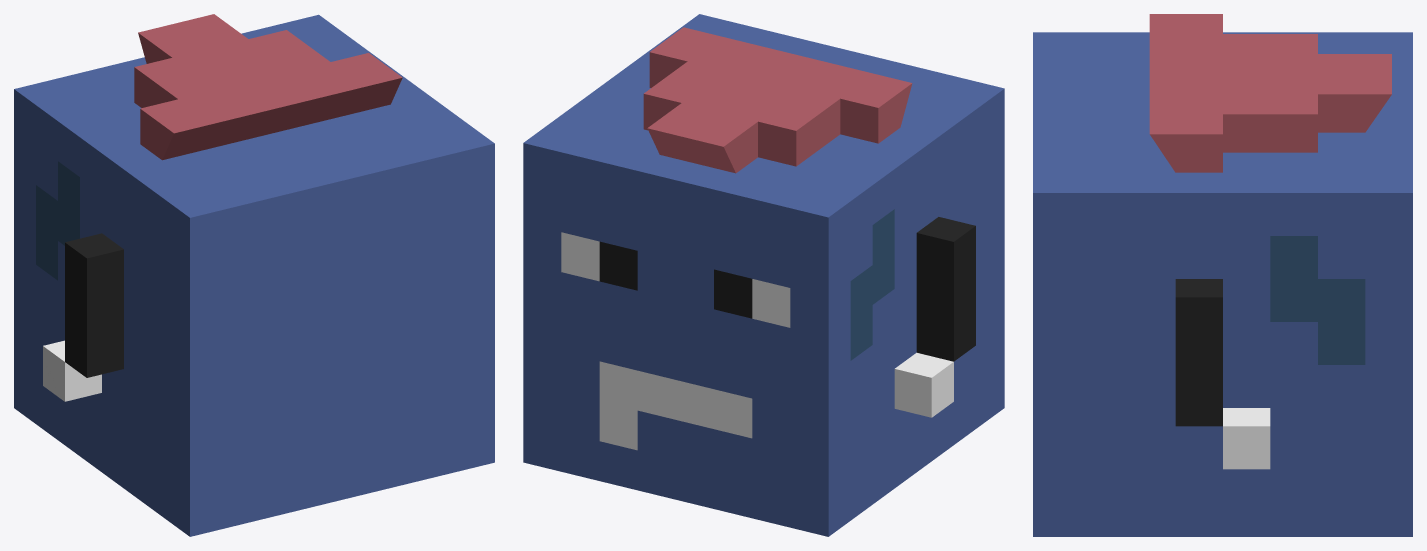
File: Player4.fbx
3 renders of one model, left to right at view 1: azimuth 30°, elevation 25°; view 2: azimuth 150°, elevation 25°; view 3: azimuth 270°, elevation 25°, orthographic. The views are drawn at different scales.
Visible parts, largest first — view 1: Player4; view 2: Player4; view 3: Player4.
Boxes of the visible parts, x1,y1,x2,y2 form: Player4: [14, 14, 494, 536]; Player4: [523, 14, 1004, 536]; Player4: [1033, 14, 1412, 536].
Bounding box in the file's own units: 147 × 133 × 119.
